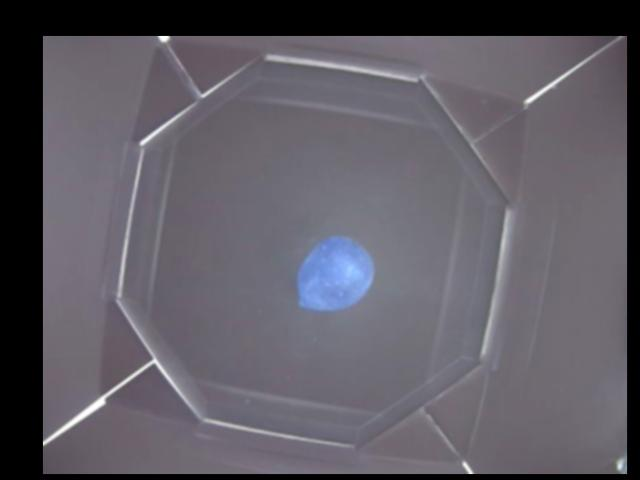Potato: (296, 230, 374, 309)
